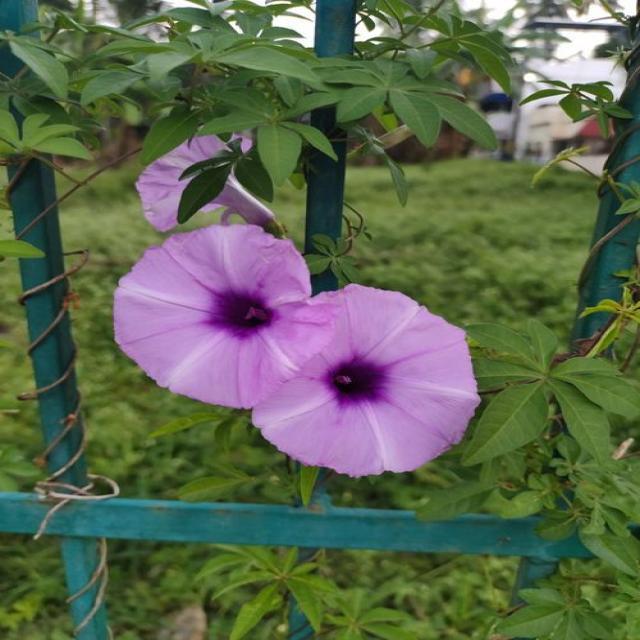ipomoea: (247, 281, 484, 480), (109, 220, 340, 412), (132, 130, 280, 235)
